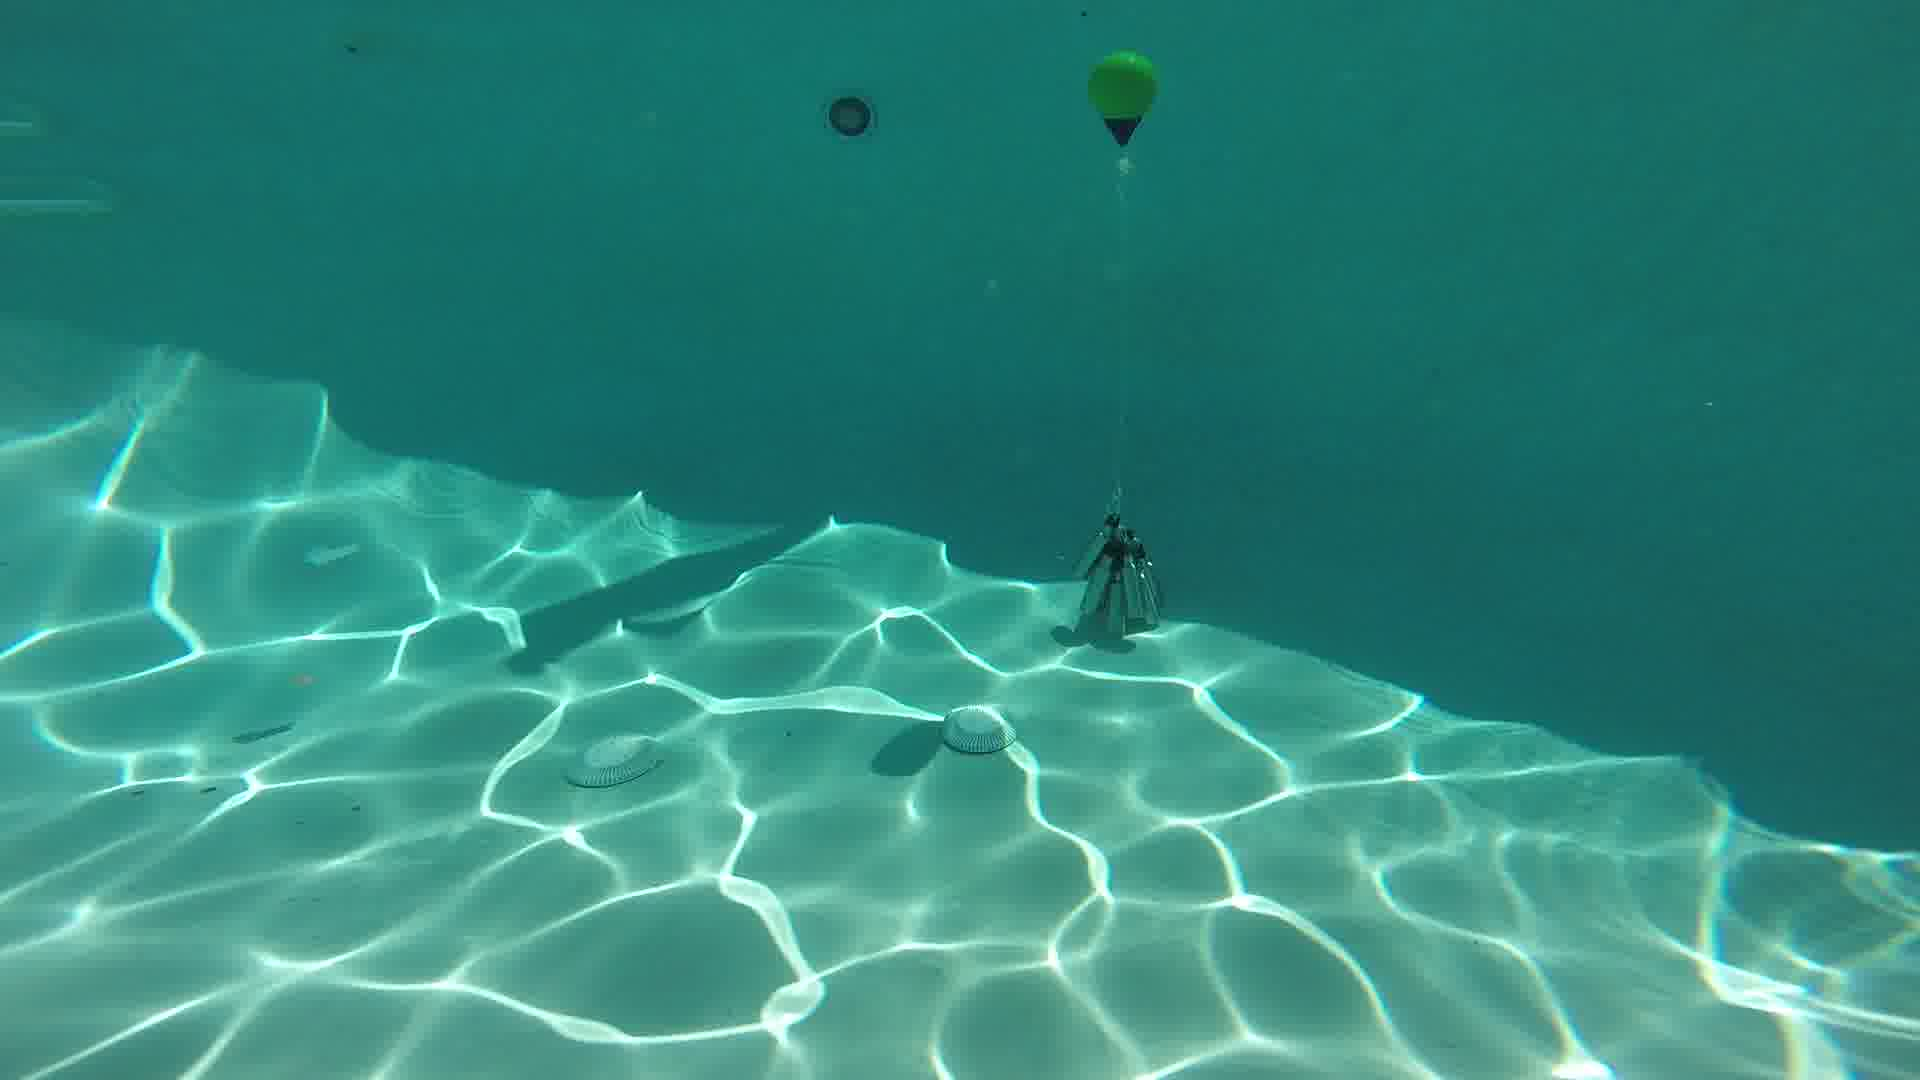yellow_buoy: (1089, 49, 1156, 175)
